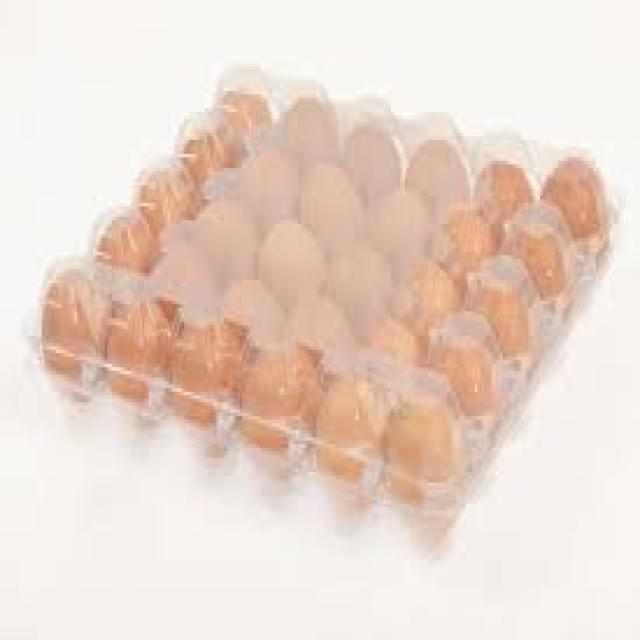Egg: (309, 382, 408, 506), (242, 350, 333, 472), (389, 394, 467, 510), (546, 156, 629, 262), (469, 273, 550, 373), (440, 215, 528, 296), (48, 263, 107, 380), (100, 205, 165, 306), (102, 314, 167, 410), (170, 324, 229, 416), (440, 331, 507, 412), (516, 216, 583, 292), (169, 136, 252, 194), (378, 315, 440, 384), (214, 84, 280, 141), (130, 178, 192, 238), (415, 273, 472, 336), (477, 171, 537, 207)
